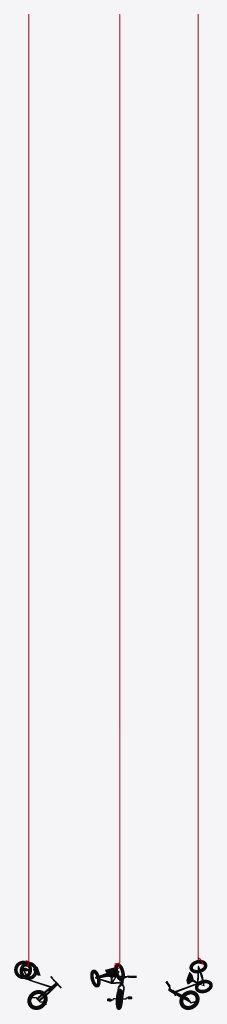
File: tricycle.glb
The picture shows the model from 3 angles, left to right: view 1: azimuth 90°, elevation 25°; view 2: azimuth 150°, elevation 25°; view 3: azimuth 270°, elevation 25°; orthographic projection.
Parts seen in each view (by area): view 1: string, tricycle.001; view 2: string, tricycle.001; view 3: string, tricycle.001.
Part boxes in pixels (x1=…): string: x1=24, y1=14, x2=29, y2=966; tricycle.001: x1=14, y1=960, x2=61, y2=1009; string: x1=114, y1=14, x2=120, y2=969; tricycle.001: x1=90, y1=964, x2=136, y2=1009; string: x1=197, y1=14, x2=203, y2=964; tricycle.001: x1=165, y1=959, x2=212, y2=1009.
Bounding box in the file's own units: 4.33 × 137 × 5.96.
